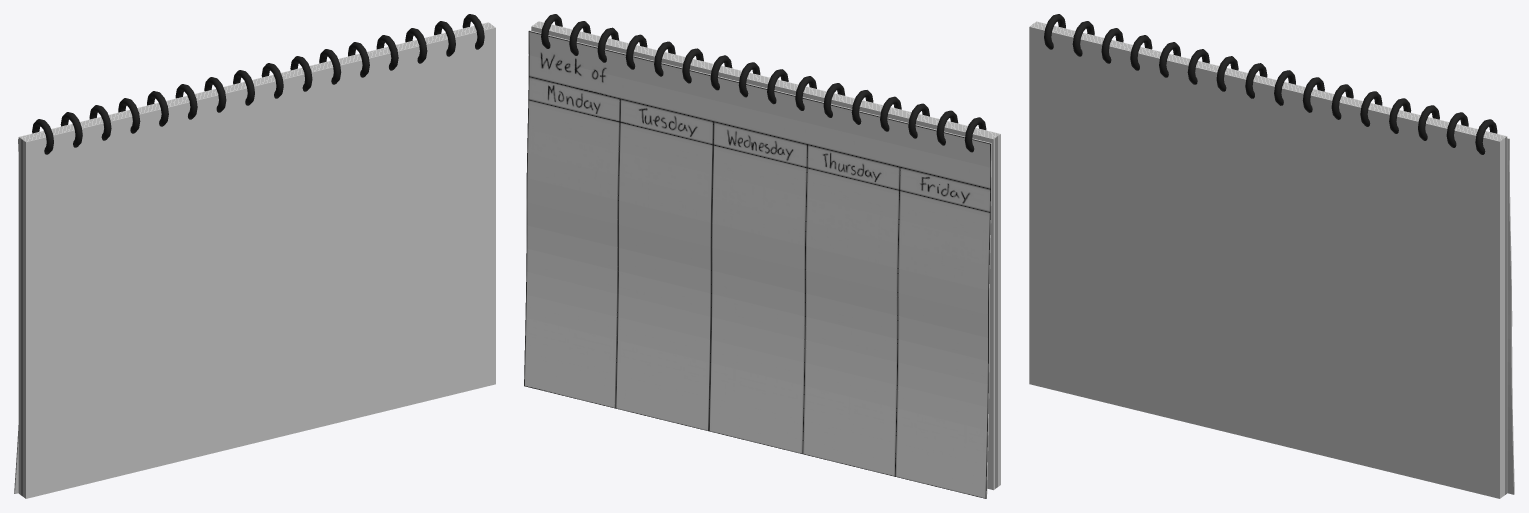
Rendered from Kalender (1).fbx.
The picture shows the model from 3 angles, left to right: view 1: azimuth 30°, elevation 25°; view 2: azimuth 150°, elevation 25°; view 3: azimuth 330°, elevation 25°; orthographic projection.
Visible parts, largest first — view 1: WochenkalendarBild; view 2: WochenkalendarBild; view 3: WochenkalendarBild.
Boxes of the visible parts, box(x1,y1,x2,y2) form: WochenkalendarBild: box(14, 14, 495, 498); WochenkalendarBild: box(524, 14, 1000, 498); WochenkalendarBild: box(1029, 14, 1514, 498).
Size of the model in its own units: 65.95 by 49.93 by 4.44.
3 materials, 1 textured.
